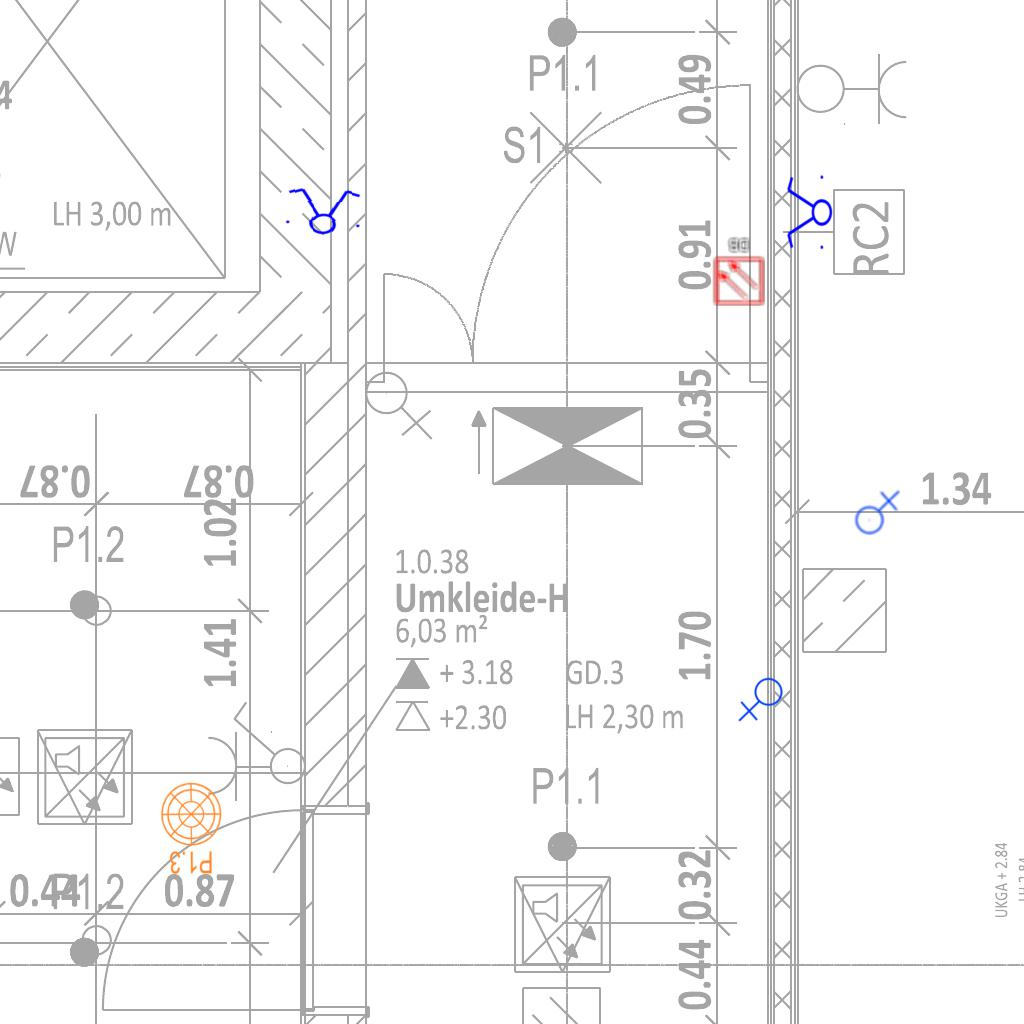Aufbaurundleuchte_LED_Treppenhaus: (154, 781, 223, 883)
DB_Melder_in_Doppelboden_mit_Revisionsoeffnung_mind_40_x_40_cm: (710, 234, 767, 308)
Elektroanschluss_allgemein_230V_Geraeteanschlussdose_230V: (738, 677, 787, 724), (851, 488, 900, 535)
Serienschalter: (279, 184, 367, 238), (785, 171, 833, 255)
